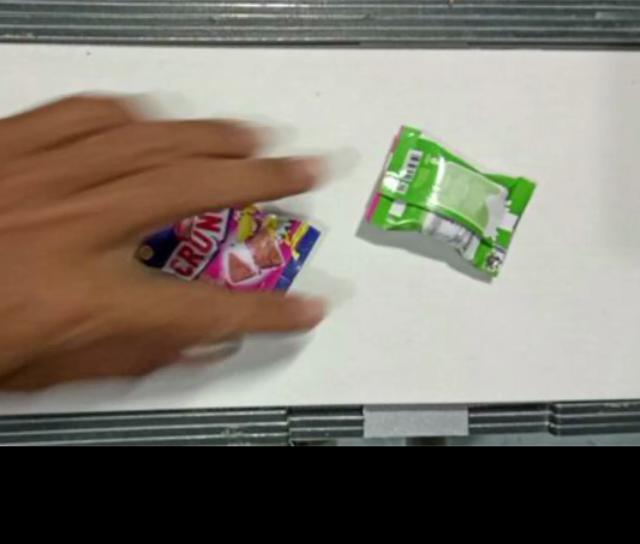Plastik: (365, 125, 535, 278), (134, 202, 322, 295)
